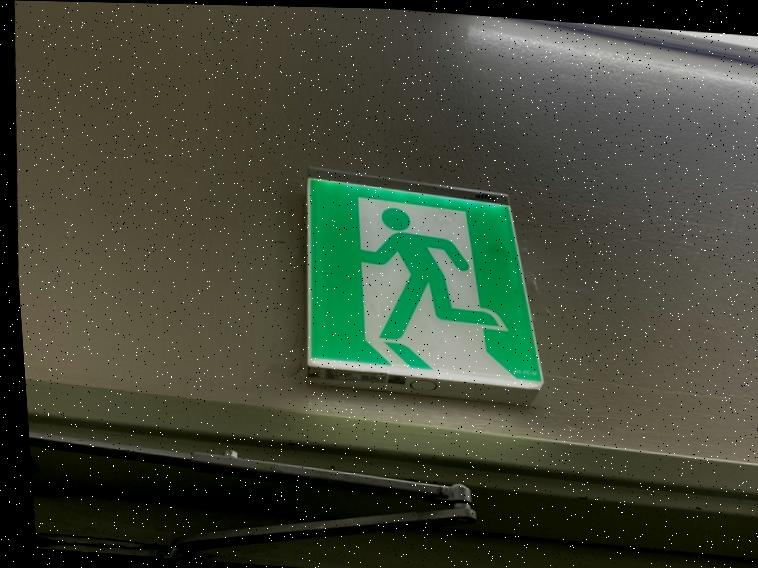emergency_exit: (305, 170, 544, 392)
